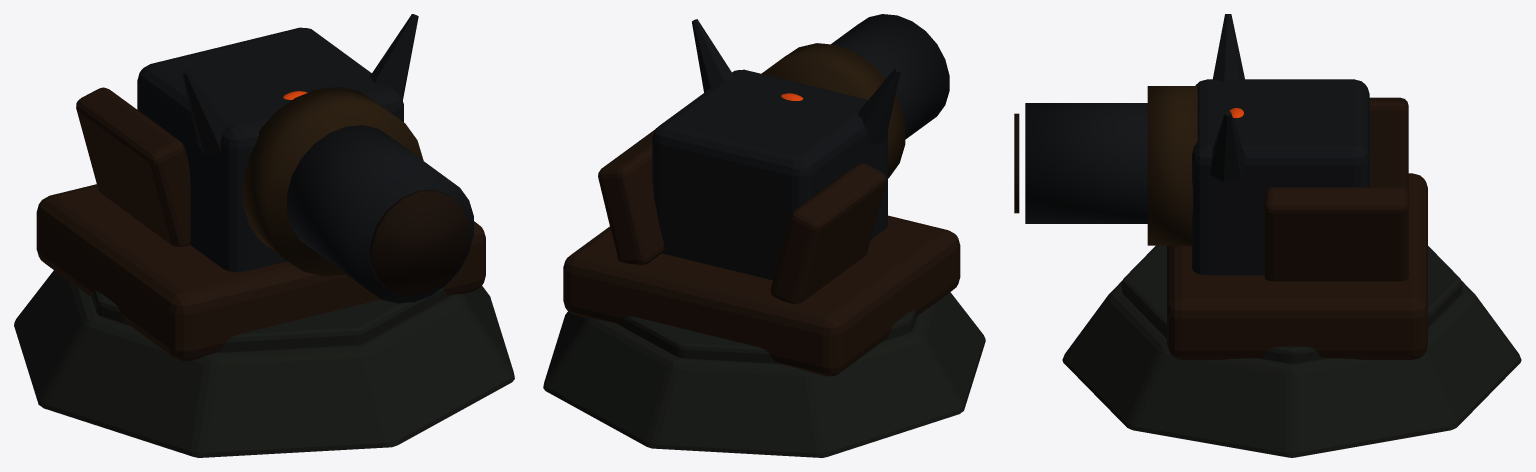
File: TowerChaos0.obj
3 views of the same model, side by side, from view 1: azimuth 30°, elevation 25°; view 2: azimuth 150°, elevation 25°; view 3: azimuth 270°, elevation 25° (orthographic). The views are drawn at different scales.
Visible parts, largest first — view 1: black_stone_furnace_base_lower_course, oak_fire_cradle, iron_furnace_jacket, iron_blast_barrel, bronze_blast_collar, oak_bellows_arm, black_fire_mouth, black_stone_furnace_base_upper_course, iron_heat_fin, iron_heat_fin.001; view 2: black_stone_furnace_base_lower_course, iron_furnace_jacket, oak_fire_cradle, oak_bellows_arm, iron_blast_barrel, oak_bellows_arm.001, bronze_blast_collar, black_stone_furnace_base_upper_course, iron_heat_fin, iron_heat_fin.001; view 3: black_stone_furnace_base_lower_course, iron_furnace_jacket, oak_fire_cradle, iron_blast_barrel, oak_bellows_arm.001, bronze_blast_collar, black_stone_furnace_base_upper_course, oak_bellows_arm, iron_heat_fin.001, iron_heat_fin, black_fire_mouth.
Part boxes in pixels (box(x1,y1,x2,y2)): black_stone_furnace_base_lower_course: box(14, 270, 514, 457); oak_fire_cradle: box(36, 184, 485, 360); iron_furnace_jacket: box(137, 27, 403, 272); iron_blast_barrel: box(287, 125, 473, 303); bronze_blast_collar: box(242, 87, 423, 276); oak_bellows_arm: box(76, 87, 190, 246); black_fire_mouth: box(370, 190, 468, 295); black_stone_furnace_base_upper_course: box(92, 288, 448, 352); iron_heat_fin: box(182, 69, 230, 155); iron_heat_fin.001: box(370, 14, 418, 100); black_stone_furnace_base_lower_course: box(543, 292, 985, 457); iron_furnace_jacket: box(652, 69, 887, 280); oak_fire_cradle: box(563, 215, 960, 376); oak_bellows_arm: box(770, 163, 886, 303); iron_blast_barrel: box(831, 14, 949, 139); oak_bellows_arm.001: box(598, 129, 664, 265); bronze_blast_collar: box(761, 43, 905, 178); black_stone_furnace_base_upper_course: box(617, 310, 916, 363); iron_heat_fin: box(857, 68, 900, 144); iron_heat_fin.001: box(692, 19, 734, 92); black_stone_furnace_base_lower_course: box(1062, 280, 1521, 457); iron_furnace_jacket: box(1192, 79, 1369, 275); oak_fire_cradle: box(1167, 173, 1427, 359); iron_blast_barrel: box(1025, 103, 1147, 223); oak_bellows_arm.001: box(1264, 187, 1408, 281); bronze_blast_collar: box(1147, 86, 1197, 245); black_stone_furnace_base_upper_course: box(1122, 245, 1461, 363); oak_bellows_arm: box(1369, 97, 1408, 194); iron_heat_fin.001: box(1210, 111, 1245, 182); iron_heat_fin: box(1212, 14, 1244, 81); black_fire_mouth: box(1014, 113, 1019, 213).
Size of the model in its own units: 1.65 by 1.19 by 1.83.
